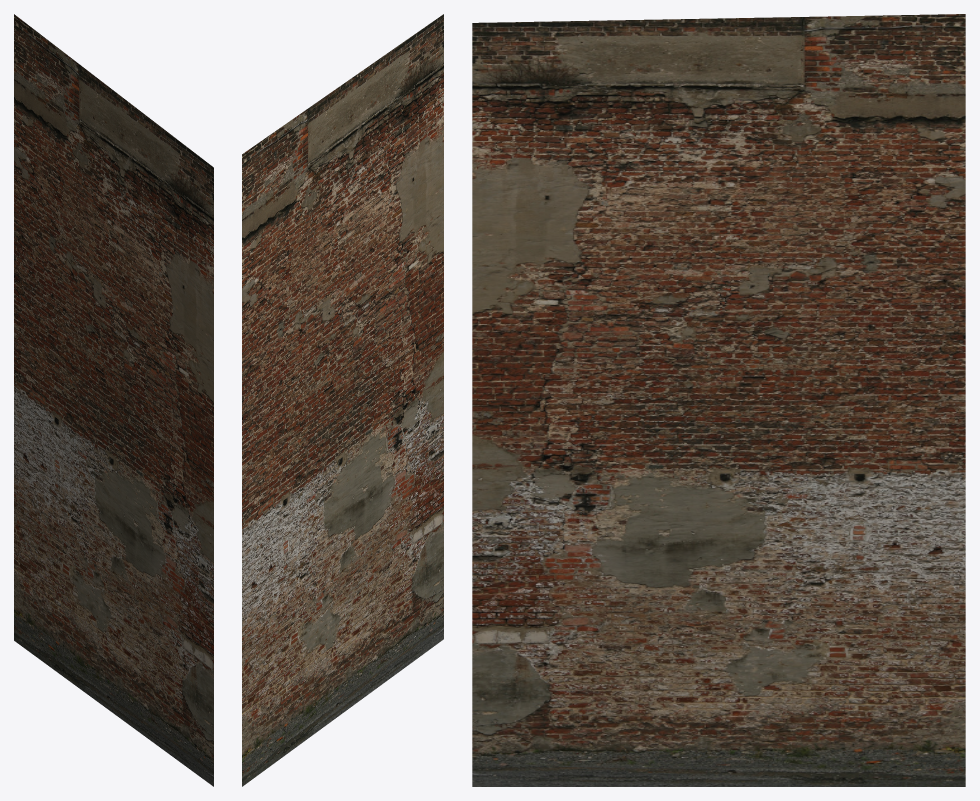
File: city_sideWall.fbx
3 views of the same model, side by side, from view 1: azimuth 30°, elevation 25°; view 2: azimuth 150°, elevation 25°; view 3: azimuth 270°, elevation 25° (orthographic). The views are drawn at different scales.
Visible parts, largest first — view 1: city_sideWall; view 2: city_sideWall; view 3: city_sideWall.
Boxes of the visible parts, x1,y1,x2,y2 form: city_sideWall: (14,14,213,786); city_sideWall: (242,14,443,786); city_sideWall: (472,14,965,786).
Size of the model in its own units: 0 by 882 by 1526.
Materials: 1 (1 with a texture image).
